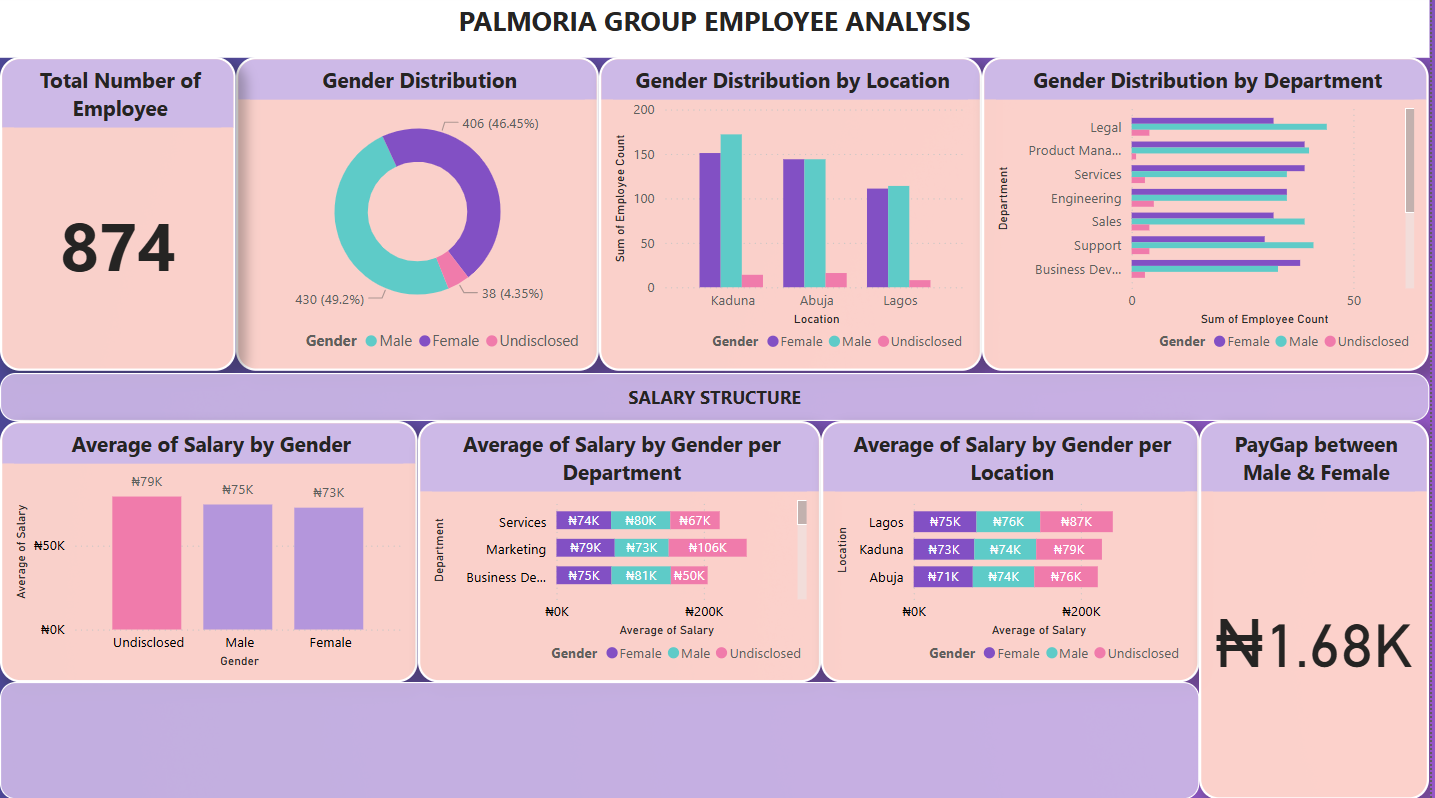

This screenshot's page, from the dashboard's own definition file:
{"tool":"powerbi","page":{"name":"Page 1","canvas":[1280,720],"ordinal":0},"visuals":[{"type":"donutChart","title":"Gender Distribution","fields":{"Category":["Bonus Rating.Gender"],"Y":["CountNonNull(Bonus Rating.Name)"]},"box":[211.3,55.5,325.1,281.2],"z":0},{"type":"card","title":"Total Number of Employee","fields":{"Values":["Sum(Bonus Rating.Employee Count)"]},"box":[0,55.5,211.3,281.2],"z":1000},{"type":"clusteredColumnChart","title":"Gender Distribution by Location","fields":{"Category":["Bonus Rating.Location"],"Y":["Sum(Bonus Rating.Employee Count)"],"Series":["Bonus Rating.Gender"]},"box":[536.4,55.5,343,281.2],"z":2000},{"type":"clusteredBarChart","title":"Gender Distribution by Department","fields":{"Category":["Bonus Rating.Department"],"Series":["Bonus Rating.Gender"],"Y":["Sum(Bonus Rating.Employee Count)"]},"box":[879.4,55.5,400.3,281.2],"z":3000},{"type":"textbox","box":[0,338.5,1279.7,43],"z":4000},{"type":"clusteredColumnChart","title":"Average of Salary by Gender","fields":{"Category":["Bonus Rating.Gender"],"Y":["Avg(Palmoria HR Analytics.Salary)"]},"box":[0,381.5,374.3,233.7],"z":5000},{"type":"barChart","title":"Average of Salary by Gender per Department","fields":{"Category":["Bonus Rating.Department"],"Series":["Bonus Rating.Gender"],"Y":["Avg(Palmoria HR Analytics.Salary)"]},"box":[374.3,381.5,360.9,233.7],"z":6000},{"type":"barChart","title":"Average of Salary by Gender per Location","fields":{"Series":["Bonus Rating.Gender"],"Category":["Bonus Rating.Location"],"Y":["Avg(Palmoria HR Analytics.Salary)"]},"box":[735.2,381.5,338.5,233.7],"z":7000},{"type":"card","title":"PayGap between Male & Female","fields":{"Values":["Palmoria HR Analytics.PayGap"]},"box":[1073.7,381.5,206,338.5],"z":8000},{"type":"textbox","box":[0,0,1279.7,55.5],"z":12000},{"type":"textbox","box":[0,615.2,1073.7,104.8],"z":12001}]}

Visuals, with their boxes in screenshot pixels (x1, y1, x2, y2), scaled from the page's 1280x720 canvas onto the 1435x798 screenshot:
"Gender Distribution" donutChart: <box>237,62,601,373</box>
"Total Number of Employee" card: <box>0,62,237,373</box>
"Gender Distribution by Location" clusteredColumnChart: <box>601,62,986,373</box>
"Gender Distribution by Department" clusteredBarChart: <box>986,62,1434,373</box>
textbox: <box>0,375,1434,423</box>
"Average of Salary by Gender" clusteredColumnChart: <box>0,423,420,682</box>
"Average of Salary by Gender per Department" barChart: <box>420,423,824,682</box>
"Average of Salary by Gender per Location" barChart: <box>824,423,1204,682</box>
"PayGap between Male & Female" card: <box>1204,423,1434,797</box>
textbox: <box>0,0,1434,62</box>
textbox: <box>0,682,1204,797</box>
